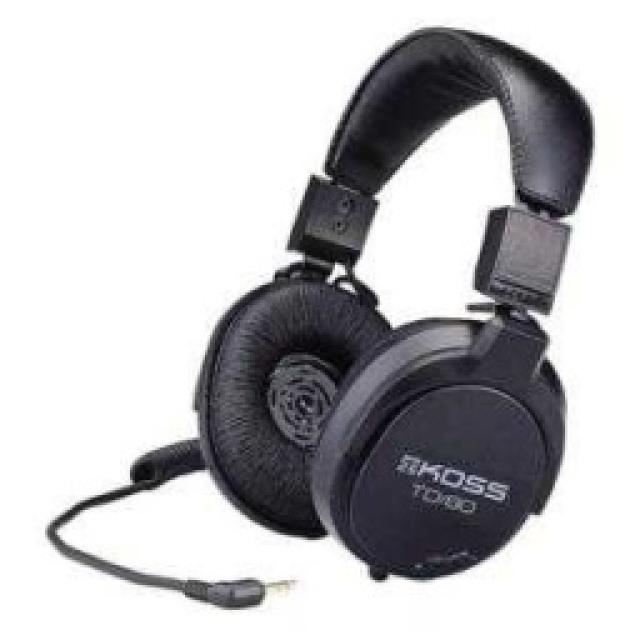headphones: (187, 22, 595, 580)
